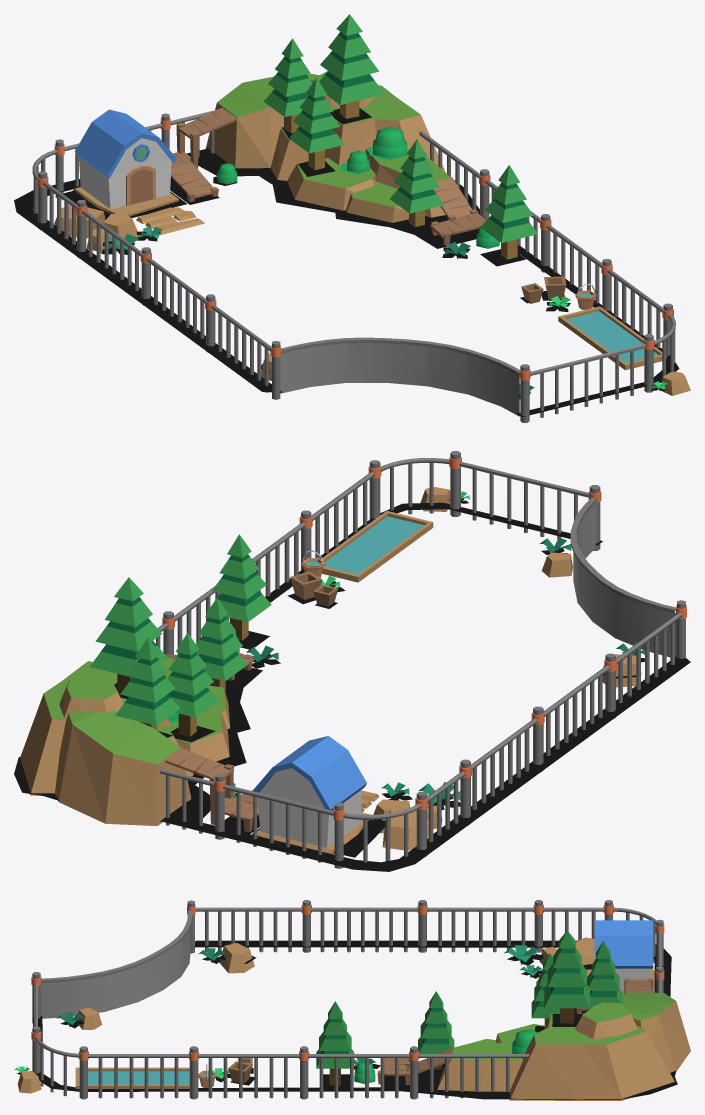
The model's file is xweilan_1004_3.FBX.
3 views of the same model, one above another, from view 1: azimuth 30°, elevation 25°; view 2: azimuth 150°, elevation 25°; view 3: azimuth 270°, elevation 25° (orthographic). The views are drawn at different scales.
Parts seen in each view (by area): view 1: xweilan_1004_3; view 2: xweilan_1004_3; view 3: xweilan_1004_3.
Boxes of the visible parts, box(x1,y1,x2,y2) form: xweilan_1004_3: box(14, 14, 690, 422); xweilan_1004_3: box(14, 451, 690, 871); xweilan_1004_3: box(14, 900, 690, 1100).
Bounding box in the file's own units: 4347 × 1900 × 7830.
